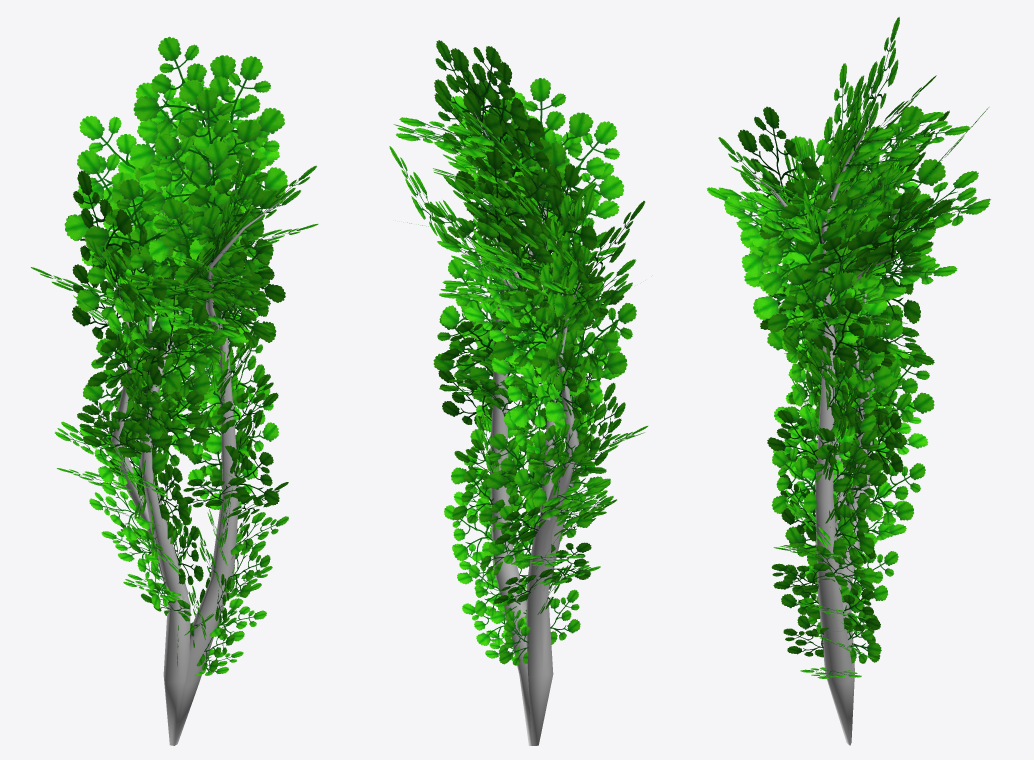
File: wood.obj
3 views of the same model, side by side, from view 1: azimuth 30°, elevation 25°; view 2: azimuth 150°, elevation 25°; view 3: azimuth 270°, elevation 25° (orthographic). The views are drawn at different scales.
Visible parts, largest first — view 1: tree; view 2: tree; view 3: tree.
Part boxes in pixels (bbox=[...]): tree: bbox=[31, 36, 318, 745]; tree: bbox=[389, 40, 647, 745]; tree: bbox=[707, 17, 990, 745].
Bounding box in the file's own units: 2.59 × 6.67 × 2.6.
